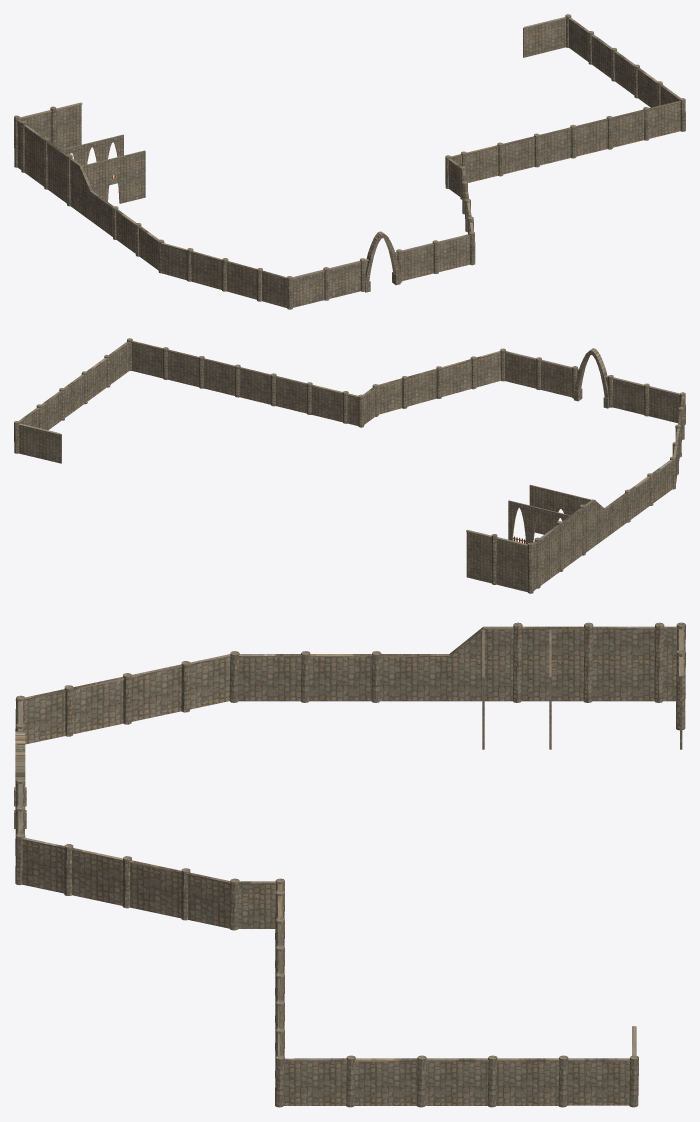
The model's file is wall.glb.
The picture shows the model from 3 angles, top to bottom: view 1: azimuth 30°, elevation 25°; view 2: azimuth 150°, elevation 25°; view 3: azimuth 270°, elevation 25°; orthographic projection. The views are drawn at different scales.
Parts seen in each view (by area): view 1: OutsideWallFront-col, OutsideWallDetail.005, StableWall-col.001, MainOutsidePillarWallFront, MainOutsidePillarWallFrontRight, StableWall-col, MainOutsidePillarWallRight, MainOutsidePillarWallSides, MainOutsidePillarWallLeft.001, DoorOutsideArch-col, MainOutsidePillarWallLeft; view 2: OutsideWallFront-col, OutsideWallDetail.005, StableWall-col.001, StableWall-col, MainOutsidePillarWallFrontRight, MainOutsidePillarWallSides, MainOutsidePillarWallFront, MainOutsidePillarWallRight, MainOutsidePillarWallLeft.001, MainOutsidePillarWallBackLeft, DoorOutsideArch-col, MainOutsidePillarWallLeft; view 3: OutsideWallFront-col, OutsideWallDetail.005, MainOutsidePillarWallRight, MainOutsidePillarWallSides, MainOutsidePillarWallLeft.001, MainOutsidePillarWallLeft, MainOutsidePillarWallFrontRight, MainOutsidePillarWallFront, MainOutsidePillarWallBackLeft.
Boxes of the visible parts, x1,y1,x2,y2 form: OutsideWallFront-col: (17,18,680,307); OutsideWallDetail.005: (16,17,681,279); StableWall-col.001: (82,150,145,203); MainOutsidePillarWallFront: (287,231,475,309); MainOutsidePillarWallFrontRight: (461,107,649,180); StableWall-col: (61,134,123,185); MainOutsidePillarWallRight: (565,14,685,131); MainOutsidePillarWallSides: (187,181,473,301); MainOutsidePillarWallLeft.001: (21,120,72,206); DoorOutsideArch-col: (365,231,399,281); MainOutsidePillarWallLeft: (112,206,164,273); OutsideWallFront-col: (18,343,683,592); OutsideWallDetail.005: (18,341,684,546); StableWall-col.001: (529,484,591,534); StableWall-col: (508,500,569,544); MainOutsidePillarWallFrontRight: (163,347,348,423); MainOutsidePillarWallSides: (402,356,684,474); MainOutsidePillarWallFront: (500,348,685,424); MainOutsidePillarWallRight: (14,338,132,453); MainOutsidePillarWallLeft.001: (534,504,585,588); MainOutsidePillarWallBackLeft: (491,534,533,593); DoorOutsideArch-col: (574,348,608,398); MainOutsidePillarWallLeft: (625,456,675,522); OutsideWallFront-col: (22,629,682,1105); OutsideWallDetail.005: (15,626,683,1061); MainOutsidePillarWallRight: (275,1055,638,1107); MainOutsidePillarWallSides: (64,661,190,920); MainOutsidePillarWallLeft.001: (513,622,664,702); MainOutsidePillarWallLeft: (229,651,381,702); MainOutsidePillarWallFrontRight: (275,890,284,1077); MainOutsidePillarWallFront: (15,695,25,885); MainOutsidePillarWallBackLeft: (676,622,685,730).
Size of the model in its own units: 82.94 by 7.94 by 57.67.
Materials: 2 (1 with a texture image).
